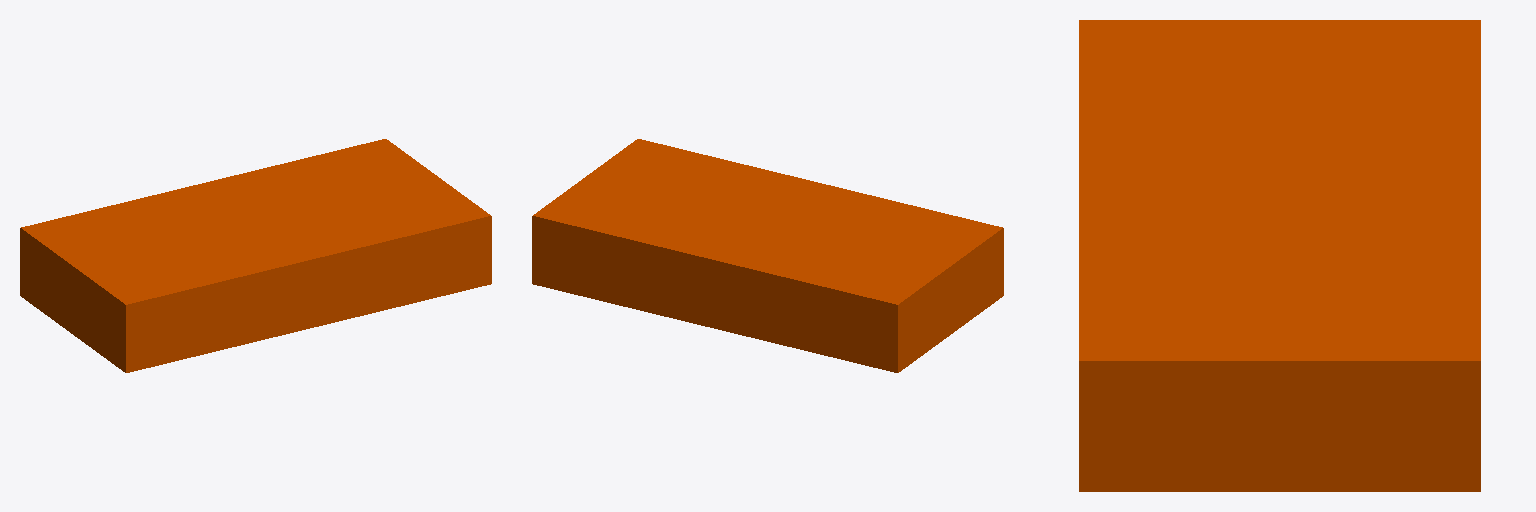
URDF robot description (rectangular_model):
<?xml version="1.0"?>
<robot name="rectangular_model">


  <material name="white">
    <color rgba="1.0 1.0 1.0 1.0"/>
  </material>

   <material name="orange">
    <color rgba="1.0 0.423529411765 0.0392156862745 1.0"/>
  </material>

<!--////////////////////////////////   Odom    ////////////////////////////////-->
  
  <link name="base">
    <inertial>
      <mass value="10"/>
      <origin xyz="0 0 0" rpy="0 0 0"/>
      <inertia ixx="0.1104557116459" ixy="0.0002742627834" ixz="-0.0007826805716" iyy="0.2925866863396" iyz="-0.0018014327089" izz="0.3259809298915"/>
    </inertial>
    <collision name="body_col">
      <origin xyz="0 0 0" rpy="0 0 0"/>
      <geometry>
        <box size="1.2 0.6 0.1"/>
      </geometry>
    </collision>
    <!-- <visual name="body_vis">
      <origin xyz="0 0 0" rpy="0 0 0"/>
      <geometry>
        <box size="1.2 0.6 0.1"/>
      </geometry>
    </visual> -->
    <!-- <collision name="base_col">
      <origin xyz="0 0 0" rpy="0 0 0"/>
      <geometry>
        <box size="0.97714 0.324 0.1"/>
      </geometry>
    </collision>
    <visual name="base_vis">
      <origin xyz="0 0 0" rpy="0 0 0"/>
      <geometry>
        <box size="0.97714 0.324 0.1"/>
      </geometry>
    </visual> -->
   </link>

  <joint name="RFJ_foot" type="fixed" dont_collapse="true">
    <parent link="base"/>
    <child link="RF_foot"/>
    <origin rpy="0 0 0" xyz="0.55 -0.25 -0.08"/>
    <axis xyz="0 0 1"/>
  </joint>

   <link name="RF_foot">
    <inertial>
      <mass value="0.01"/>
      <inertia ixx="0" ixy="0.0" ixz="0.0" iyy="0" iyz="0.0" izz="0"/>
    </inertial>
    <collision name="RF_foot_col1">
      <origin rpy="0  0  0" xyz="0.011  -0.007  0"/>
      <geometry>
        <sphere radius="0.04"/>
      </geometry>
      <contact>
        <lateral_friction value="1.0" />
        <rolling_friction value="0.001"/>
        <torsional_friction value="0.001"/>
        <contact_cfm value="0.0"/>
        <contact_erp value="0.2"/>
        <ode>
          <mu>1+e100</mu>
          <mu2>10000</mu2>
          <minDepth>0.0002</minDepth>
          <kp  value="1000000.0"/>
          <kd  value="100.0"/>
        </ode>
      </contact>
    </collision>
    <!-- <visual name="RF_foot_vis1">
      <origin rpy="0  0  0" xyz="0.011  -0.007  0"/>
      <geometry>
        <sphere radius="0.04"/>
      </geometry>
      <material name="white"/>
    </visual> -->
  </link>

  <joint name="LFJ_foot" type="fixed" dont_collapse="true">
    <parent link="base"/>
    <child link="LF_foot"/>
    <origin rpy="0 0 0" xyz="0.55 0.25 -0.08"/>
    <axis xyz="0 0 1"/>
  </joint>

   <link name="LF_foot">
    <inertial>
      <mass value="0.01"/>
      <inertia ixx="0" ixy="0.0" ixz="0.0" iyy="0" iyz="0.0" izz="0"/>
    </inertial>
    <collision name="LF_foot_col1">
      <origin rpy="0  0  0" xyz="0.011  -0.007  0"/>
      <geometry>
        <sphere radius="0.04"/>
      </geometry>
      <contact>
        <lateral_friction value="1.0" />
        <rolling_friction value="0.001"/>
        <torsional_friction value="0.001"/>
        <contact_cfm value="0.0"/>
        <contact_erp value="0.2"/>
        <ode>
          <mu>1+e100</mu>
          <mu2>10000</mu2>
          <minDepth>0.0002</minDepth>
          <kp  value="1000000.0"/>
          <kd  value="100.0"/>
        </ode>
      </contact>
    </collision>
    <!-- <visual name="LF_foot_vis1">
      <origin rpy="0  0  0" xyz="0.011  -0.007  0"/>
      <geometry>
        <sphere radius="0.04"/>
      </geometry>
      <material name="white"/>
    </visual> -->
  </link>

  <joint name="RHJ_foot" type="fixed" dont_collapse="true">
    <parent link="base"/>
    <child link="RH_foot"/>
    <origin rpy="0 0 0" xyz="-0.55 -0.25 -0.08"/>
    <axis xyz="0 0 1"/>
  </joint>

   <link name="RH_foot">
    <inertial>
      <mass value="0.01"/>
      <inertia ixx="0" ixy="0.0" ixz="0.0" iyy="0" iyz="0.0" izz="0"/>
    </inertial>
    <collision name="RH_foot_col1">
      <origin rpy="0  0  0" xyz="0.011  -0.007  0"/>
      <geometry>
        <sphere radius="0.04"/>
      </geometry>
      <contact>
        <lateral_friction value="1.0" />
        <rolling_friction value="0.001"/>
        <torsional_friction value="0.001"/>
        <contact_cfm value="0.0"/>
        <contact_erp value="0.2"/>
        <ode>
          <mu>1+e100</mu>
          <mu2>10000</mu2>
          <minDepth>0.0002</minDepth>
          <kp  value="1000000.0"/>
          <kd  value="100.0"/>
        </ode>
      </contact>
    </collision>
    <!-- <visual name="RH_foot_vis1">
      <origin rpy="0  0  0" xyz="0.011  -0.007  0"/>
      <geometry>
        <sphere radius="0.04"/>
      </geometry>
      <material name="white"/>
    </visual> -->
  </link>

  <joint name="LHJ_foot" type="fixed" dont_collapse="true">
    <parent link="base"/>
    <child link="LH_foot"/>
    <origin rpy="0 0 0" xyz="-0.55 0.25 -0.08"/>
    <axis xyz="0 0 1"/>
  </joint>

   <link name="LH_foot">
    <inertial>
      <mass value="0.01"/>
      <inertia ixx="0" ixy="0.0" ixz="0.0" iyy="0" iyz="0.0" izz="0"/>
    </inertial>
    <collision name="LH_foot_col1">
      <origin rpy="0  0  0" xyz="0.011  -0.007  0"/>
      <geometry>
        <sphere radius="0.04"/>
      </geometry>
      <contact>
        <lateral_friction value="1.0" />
        <rolling_friction value="0.001"/>
        <torsional_friction value="0.001"/>
        <contact_cfm value="0.0"/>
        <contact_erp value="0.2"/>
        <ode>
          <mu>1+e100</mu>
          <mu2>10000</mu2>
          <minDepth>0.0002</minDepth>
          <kp  value="1000000.0"/>
          <kd  value="100.0"/>
        </ode>
      </contact>
    </collision>
    <!-- <visual name="LH_foot_vis1">
      <origin rpy="0  0  0" xyz="0.011  -0.007  0"/>
      <geometry>
        <sphere radius="0.04"/>
      </geometry>
      <material name="white"/>
    </visual> -->
  </link>


   <joint name="joint1" type="revolute">
    <parent link="base"/>
    <child link="body"/>
    <origin xyz="0 0 0.2" rpy="0 0 0"/>
    <axis xyz="0 0 1"/>
    <limit lower="-3.10" upper="3.10" effort="2000" velocity="10"/>
  </joint>

<!--////////////////////////////////   Body    ////////////////////////////////-->
  <link name="body">
    <inertial>
      <mass value="12.3188555"/>
      <origin xyz="0.00142 -0.00222 -0.04319" rpy="0 0 0"/>
      <inertia ixx="0.1104557116459" ixy="0.0002742627834" ixz="-0.0007826805716" iyy="0.2925866863396" iyz="-0.0018014327089" izz="0.3259809298915"/>
    </inertial>
    <collision name="body_col">
      <origin xyz="0 0 0" rpy="0 0 0"/>
      <geometry>
        <box size="1.2 0.6 0.215"/>
      </geometry>
    </collision>
    <visual name="body_vis">
      <origin xyz="0 0 0" rpy="0 0 0"/>
      <geometry>
        <box size="1.2 0.6 0.215"/>
      </geometry>
    </visual>
    <!-- <collision name="body_col">
      <origin xyz="0 0 0" rpy="0 0 0"/>
      <geometry>
        <box size="0.97714 0.324 0.215"/>
      </geometry>
    </collision>
    <visual name="body_vis">
      <origin xyz="0 0 0" rpy="0 0 0"/>
      <geometry>
        <box size="0.97714 0.324 0.215"/>
      </geometry>
    </visual> -->
  </link>

   <gazebo reference="body">
    <material>Gazebo/Orange</material>
  </gazebo>
  <!--//////////////////////////////// IMU ////////////////////////////////-->

  <link name="imu_link">
      <collision>
          <origin xyz="0 0 0" rpy="0 0 0"/>
          <geometry>
            <box size="0.1 0.1 0.1"/>
          </geometry>
      </collision>
      <visual>
          <origin xyz="0 0 0" rpy="0 0 0"/>
          <geometry>
            <box size="0.1 0.1 0.1"/>
          </geometry>
          <material name="orange"/>
      </visual>
      <inertial>
          <origin xyz="0 0 0" rpy="0 0 0"/>
          <mass value="0.1"/>
          <inertia
        ixx="0.00016667" ixy="0.0" ixz="0.0"
        iyy="0.00016667" iyz="0.0"
        izz="0.00016667"/>
      </inertial>
  </link>

  <joint name="imu_joint" type="fixed">
      <parent link="body"/>
      <child link="imu_link"/>
      <origin xyz="0 0 0" rpy="0 0 0"/>
      <axis xyz="0 0 0"/>
  </joint>

  <gazebo reference="imu_link">
    <gravity>true</gravity>
    <sensor name="imu_sensor" type="imu">
      <always_on>true</always_on>
      <update_rate>1000</update_rate>
      <visualize>true</visualize>
      <topic>__default_topic__</topic>
      <plugin filename="libgazebo_ros_imu_sensor.so" name="imu_plugin">
        <topicName>IMU_sim</topicName>
        <bodyName>imu_link</bodyName>
        <updateRateHZ>0.0</updateRateHZ>
        <gaussianNoise>0.0</gaussianNoise>
        <xyzOffset>0 0 0</xyzOffset>
        <rpyOffset>0 0 0</rpyOffset>
        <frameName>imu_link</frameName>
        <initialOrientationAsReference>false</initialOrientationAsReference>
      </plugin>
      <pose>0 0 0 0 0 0</pose>
    </sensor>
  </gazebo>

 <!-- <transmission name="tran1">
    <type>transmission_interface/SimpleTransmission</type>
    <joint name="joint1">
      <hardwareInterface>hardware_interface/PositionJointInterface</hardwareInterface>
    </joint>
    <actuator name="motor1">
      <hardwareInterface>hardware_interface/PositionJointInterface</hardwareInterface>
      <mechanicalReduction>1</mechanicalReduction>
    </actuator>
  </transmission>

  <gazebo>
    <plugin name="gazebo_ros_control" filename="libgazebo_ros_control.so">
      <robotNamespace>/data1</robotNamespace>
      <robotSimType>gazebo_ros_control/DefaultRobotHWSim</robotSimType>
    </plugin>
  </gazebo> -->

  <gazebo>
    <plugin name="rec_model_plugin" filename="librec_model_plugin.so">
    </plugin>
  </gazebo>
  

</robot>

--- Render facts (derived) ---
Views: 3 orthographic renders of the robot side by side, from view 1: azimuth 30°, elevation 25°; view 2: azimuth 150°, elevation 25°; view 3: azimuth 270°, elevation 25°.
Robot: rectangular_model — 7 links, 6 joints (1 revolute, 5 fixed); root link base; default pose: all joints at 0.
Visible links, largest first — view 1: body; view 2: body; view 3: body.
Link boxes in pixels (x1=…): body: x1=20, y1=139, x2=491, y2=372; body: x1=532, y1=139, x2=1003, y2=372; body: x1=1079, y1=20, x2=1480, y2=491.
Bounding box of the posed robot: 1.2 × 0.6 × 0.215 m (x, y, z).
Geometry: primitives only (box / cylinder / sphere), no mesh files.
